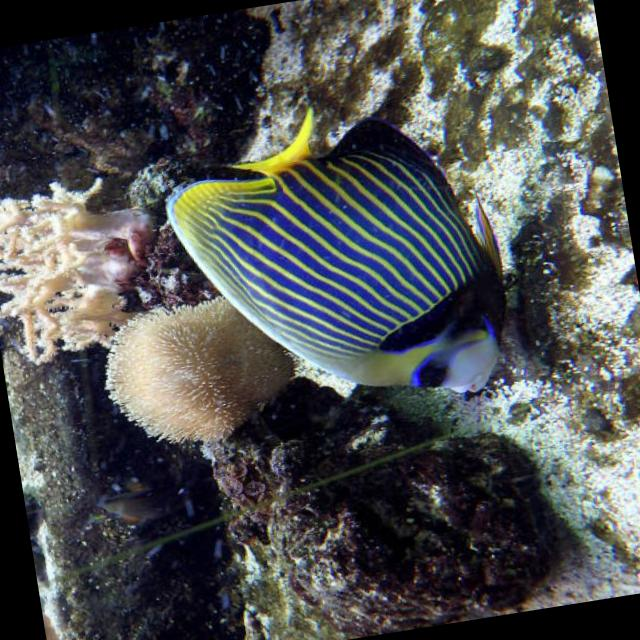AngelFish: (156, 82, 524, 434)
